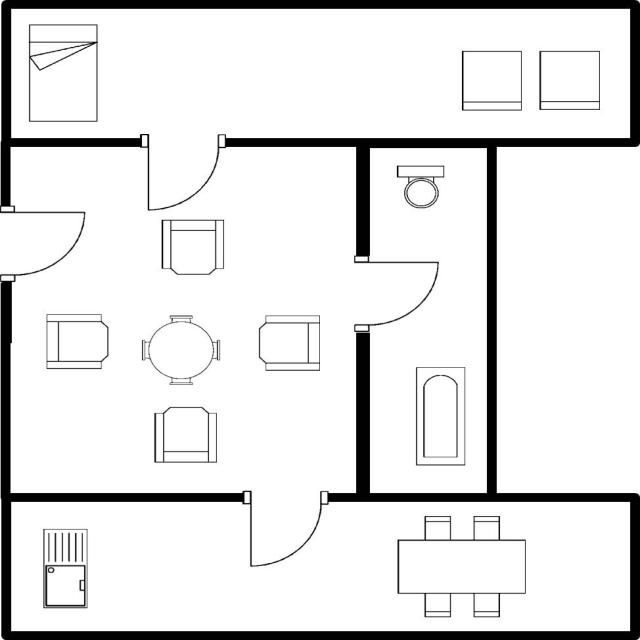armchair: (254, 311, 324, 375), (149, 404, 222, 465), (157, 216, 228, 278), (40, 310, 110, 372)
bed: (22, 20, 102, 126)
dining_table: (392, 511, 529, 621)
large_sink: (392, 160, 448, 210)
round_table: (135, 310, 226, 388)
sink: (38, 524, 92, 612)
small_sofa: (533, 46, 604, 114), (458, 44, 525, 114)
tub: (410, 363, 470, 471)
